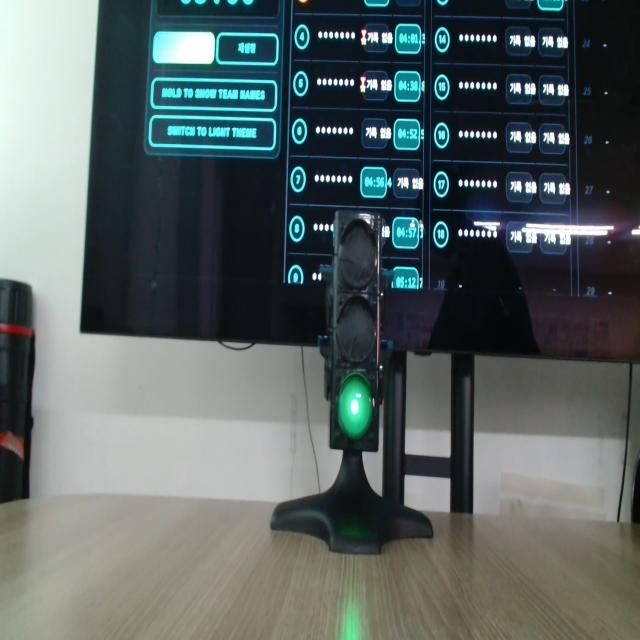green_light: (338, 374, 372, 439)
